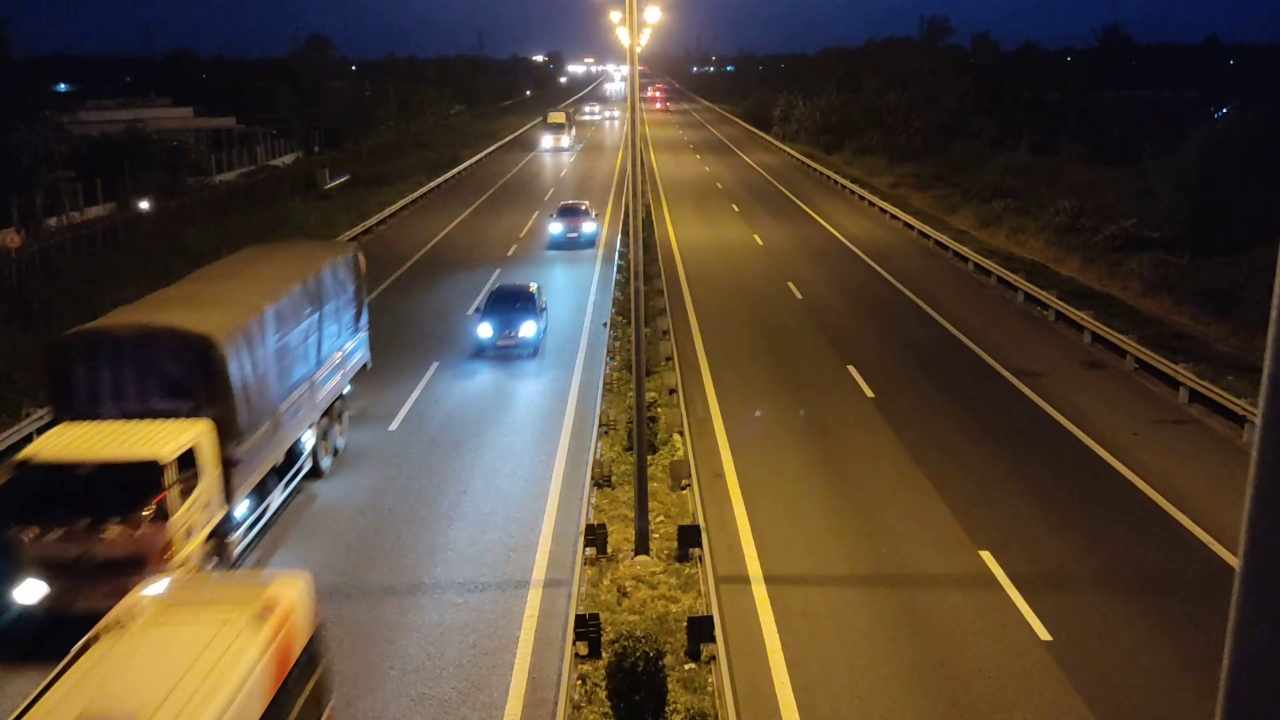car: (467, 281, 550, 359), (545, 199, 600, 249)
truck: (3, 237, 373, 633)
